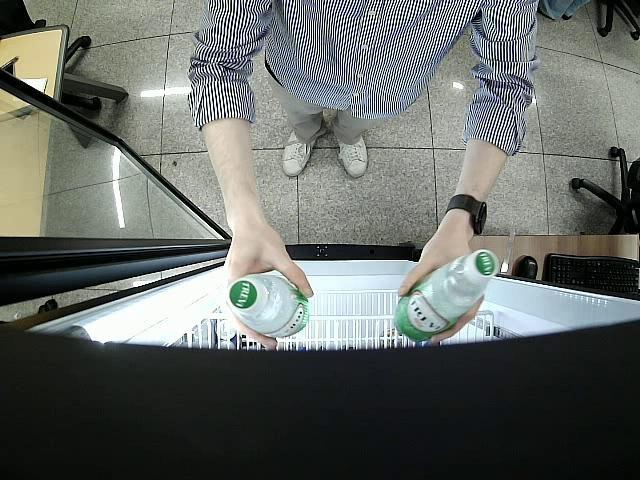18_trevi: (394, 248, 498, 344), (229, 271, 310, 338)
